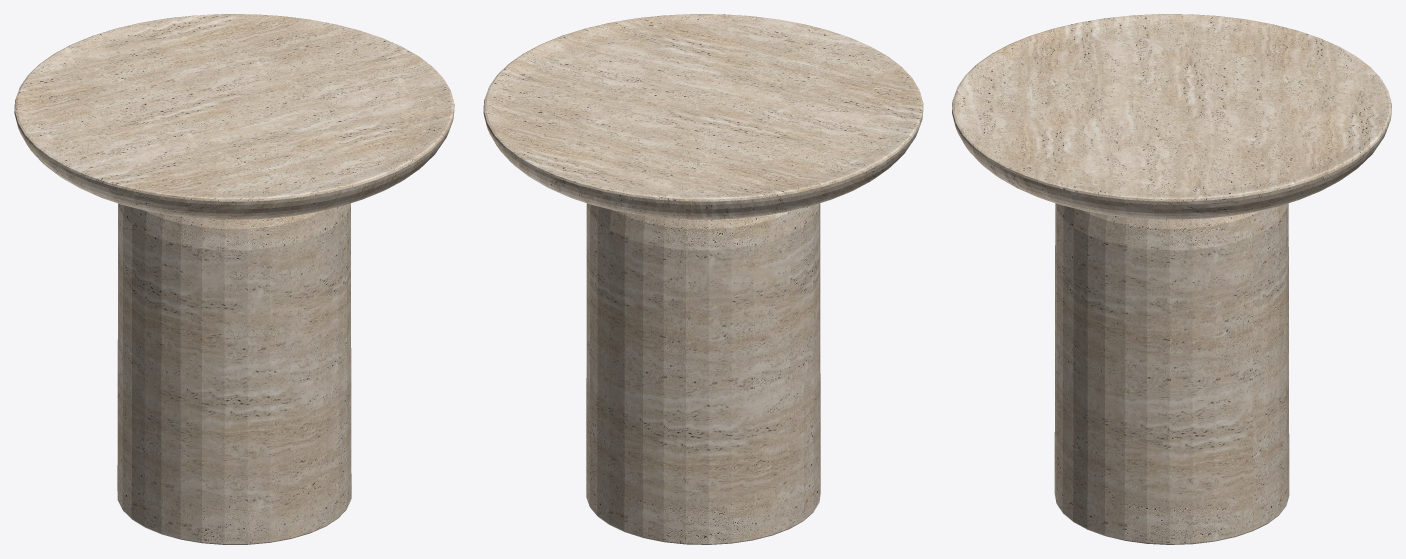
File: cupola-side-table.glb
3 renders of one model, left to right at view 1: azimuth 30°, elevation 25°; view 2: azimuth 150°, elevation 25°; view 3: azimuth 270°, elevation 25°, orthographic.
Parts seen in each view (by area): view 1: product; view 2: product; view 3: product.
Boxes of the visible parts, x1,y1,x2,y2 form: product: (14,14,454,544); product: (483,14,923,544); product: (952,14,1391,544).
Size of the model in its own units: 1 by 0.9778 by 1.
Materials: 1 (1 with a texture image).
